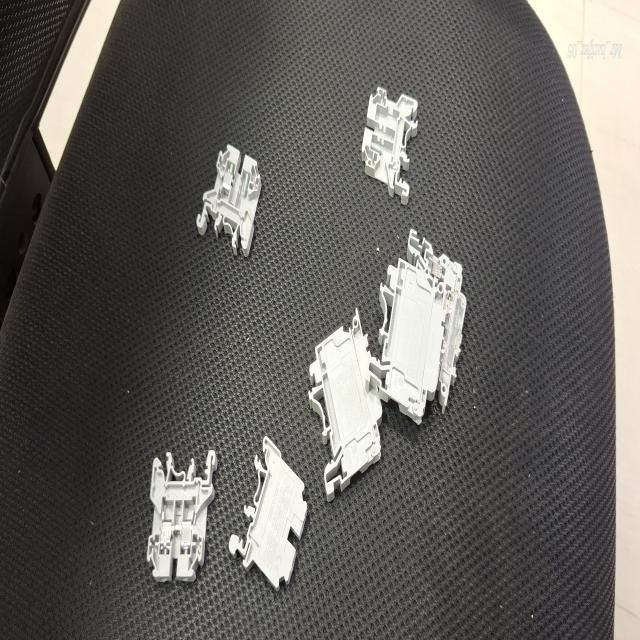Inverted: (225, 424, 316, 600)
Pass: (141, 426, 218, 595)
Reject: (194, 123, 264, 285), (353, 72, 423, 216)
